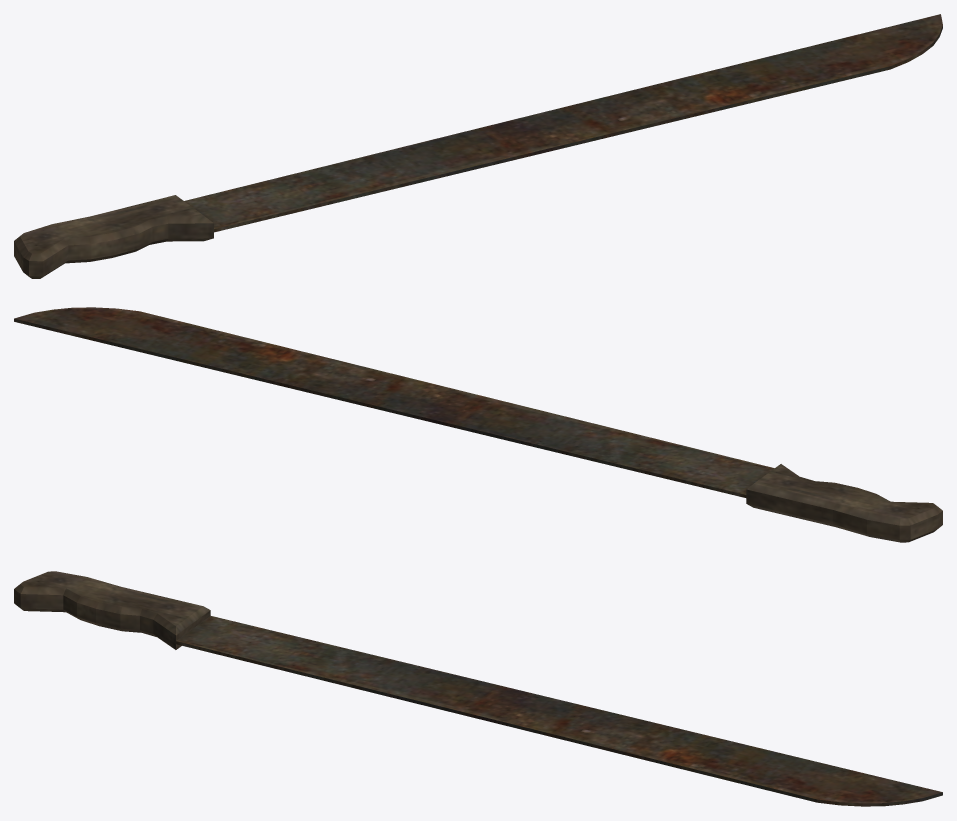
Rendered from machete_mx_1.obj.
3 views of the same model, one above another, from view 1: azimuth 30°, elevation 25°; view 2: azimuth 150°, elevation 25°; view 3: azimuth 330°, elevation 25° (orthographic). The views are drawn at different scales.
Visible parts, largest first — view 1: machete_mx_1; view 2: machete_mx_1; view 3: machete_mx_1.
Part boxes in pixels (box(x1,y1,x2,y2)): machete_mx_1: box(14, 14, 942, 278); machete_mx_1: box(14, 307, 942, 542); machete_mx_1: box(14, 571, 942, 806).
Size of the model in its own units: 1.18 by 0.03 by 0.0882.
